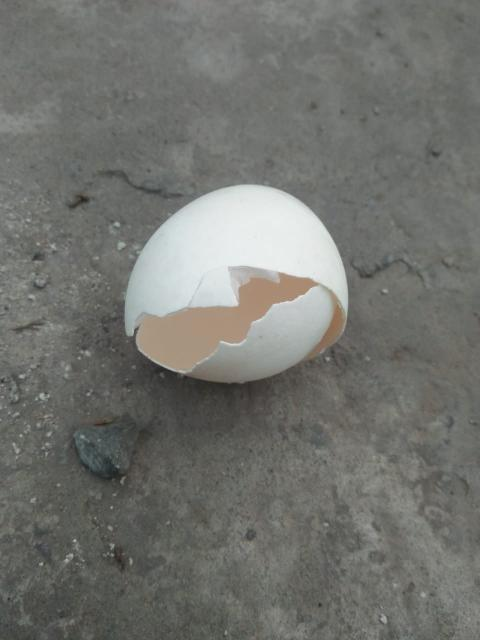Roto: (123, 182, 350, 384)
